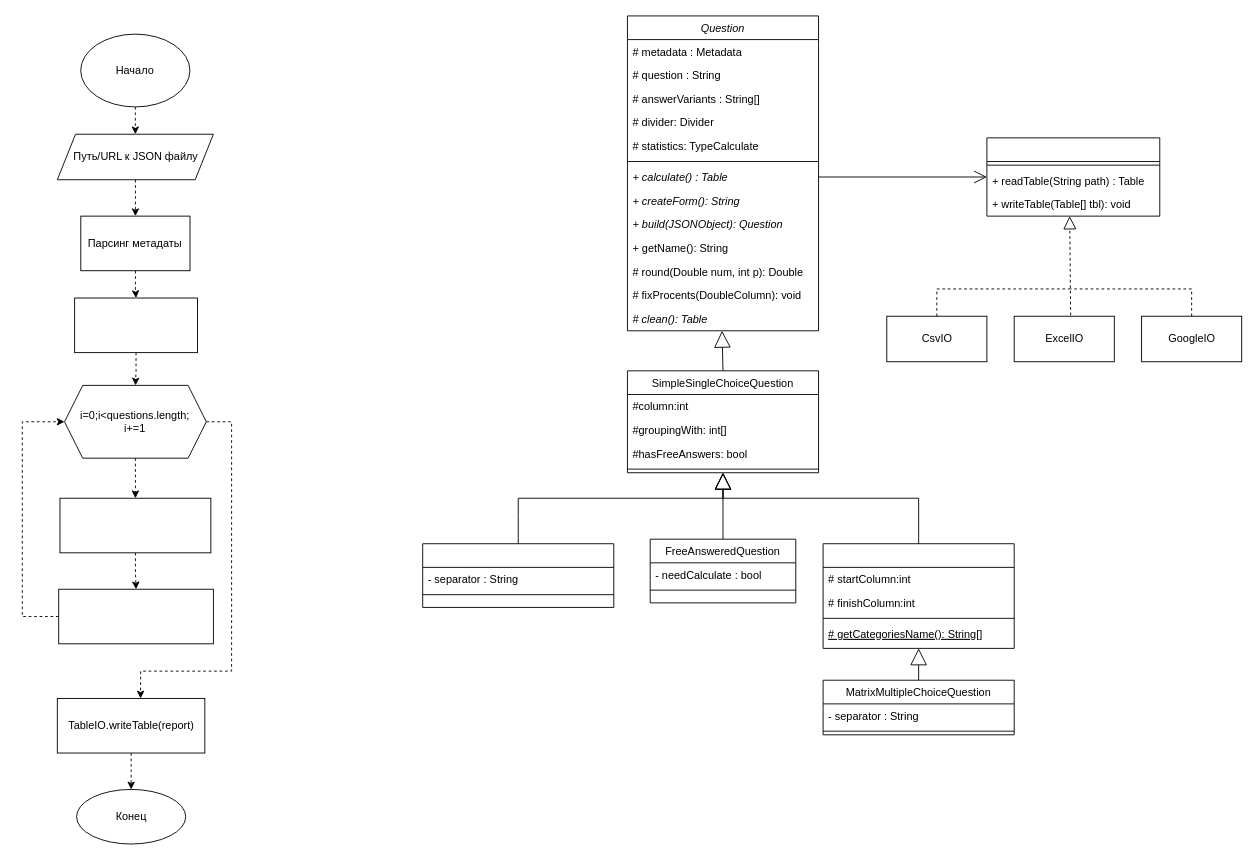
This 1258x860 diagram has some shape labels left out. Here are the shapes that lost their labels. From the top down, the box of each, then its label:
(986, 137, 1160, 216): TableIO
(74, 297, 197, 353): TableIO.readTable(path)
(59, 497, 211, 553): input = question[i].clean()
(422, 543, 614, 607): SimpleMultipleChoiceQuestion
(822, 543, 1014, 648): MatrixSingleChoiceQuestion
(58, 588, 213, 644): report.add(input.calculate())
